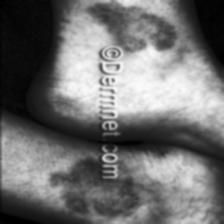Unclassified: (57, 165, 146, 217), (107, 3, 169, 48)
